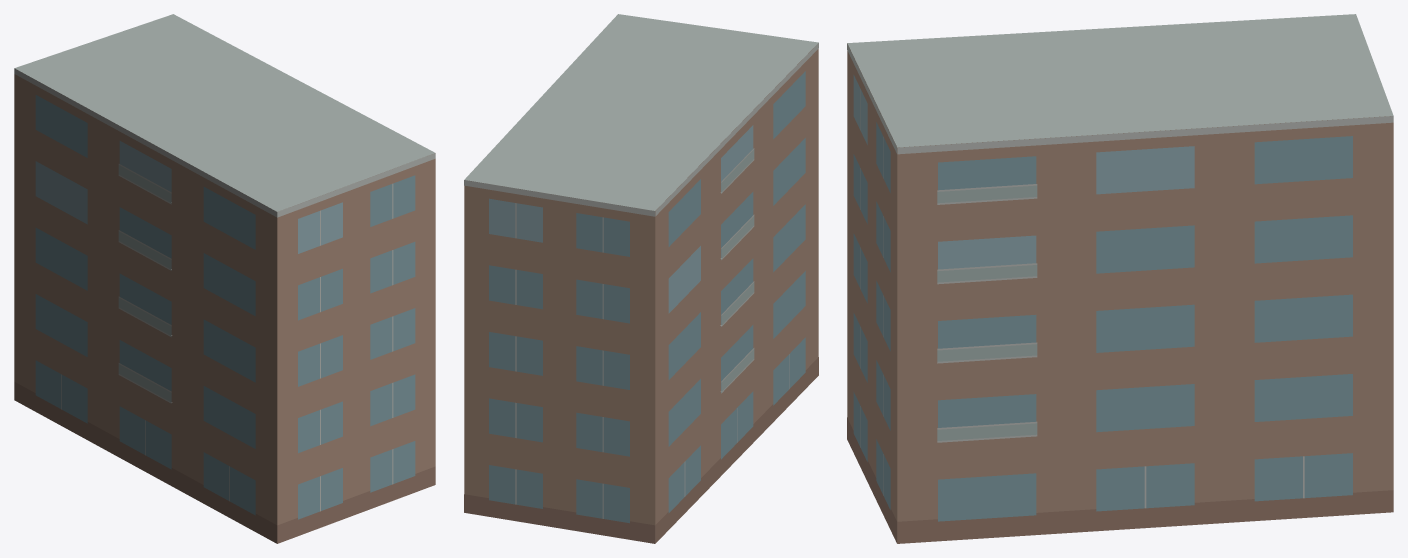
The model's file is survey-upis-32720410.glb.
The picture shows the model from 3 angles, left to right: view 1: azimuth 30°, elevation 25°; view 2: azimuth 150°, elevation 25°; view 3: azimuth 270°, elevation 25°; orthographic projection. The views are drawn at different scales.
Visible parts, largest first — view 1: survey-upis-32720410.tmp; view 2: survey-upis-32720410.tmp; view 3: survey-upis-32720410.tmp.
Part boxes in pixels (box(x1,y1,x2,y2)): survey-upis-32720410.tmp: box(14, 14, 435, 543); survey-upis-32720410.tmp: box(464, 14, 818, 543); survey-upis-32720410.tmp: box(847, 14, 1393, 543).
Bounding box in the file's own units: 10.27 × 14.2 × 17.75.
